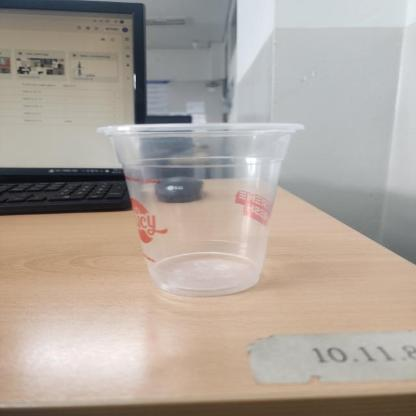Plastic Cup: (95, 122, 304, 298)
